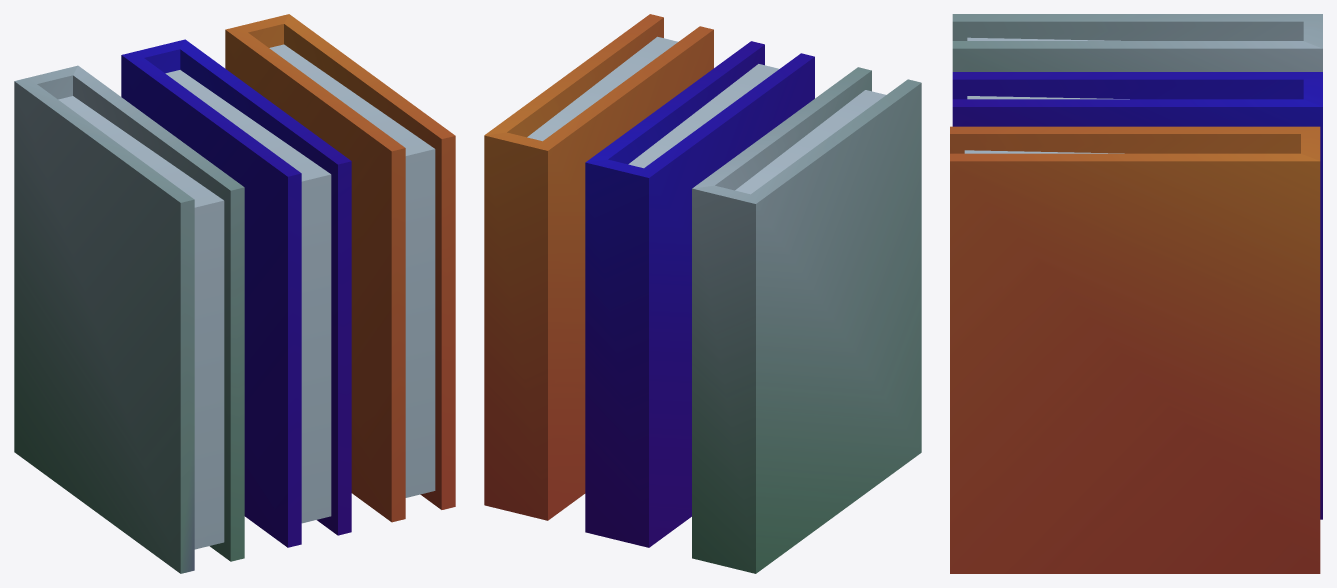
File: sp_book_decoration_a.fbx
3 renders of one model, left to right at view 1: azimuth 30°, elevation 25°; view 2: azimuth 150°, elevation 25°; view 3: azimuth 270°, elevation 25°, orthographic. The views are drawn at different scales.
Visible parts, largest first — view 1: sp_book_decoration_a; view 2: sp_book_decoration_a; view 3: sp_book_decoration_a.
Boxes of the visible parts, x1,y1,x2,y2 form: sp_book_decoration_a: (14,14,455,573); sp_book_decoration_a: (484,14,921,573); sp_book_decoration_a: (950,14,1322,573).
Bounding box in the file's own units: 21.56 × 28.01 × 22.87.
